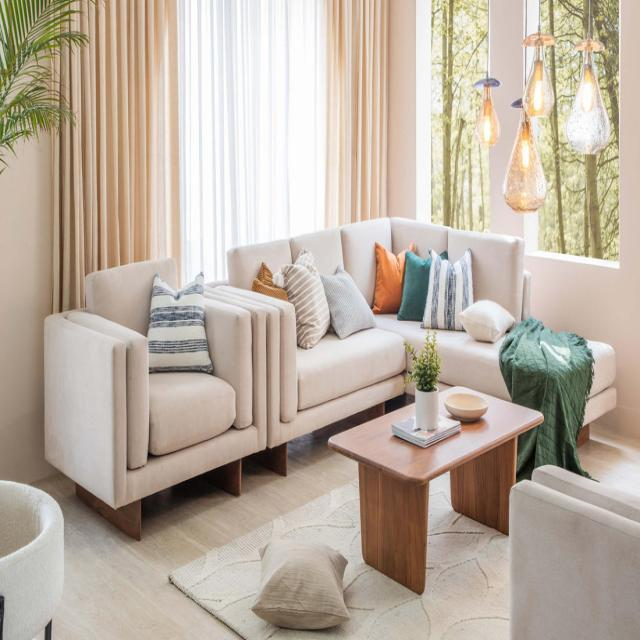sofa: (232, 216, 621, 449), (42, 254, 268, 540)
